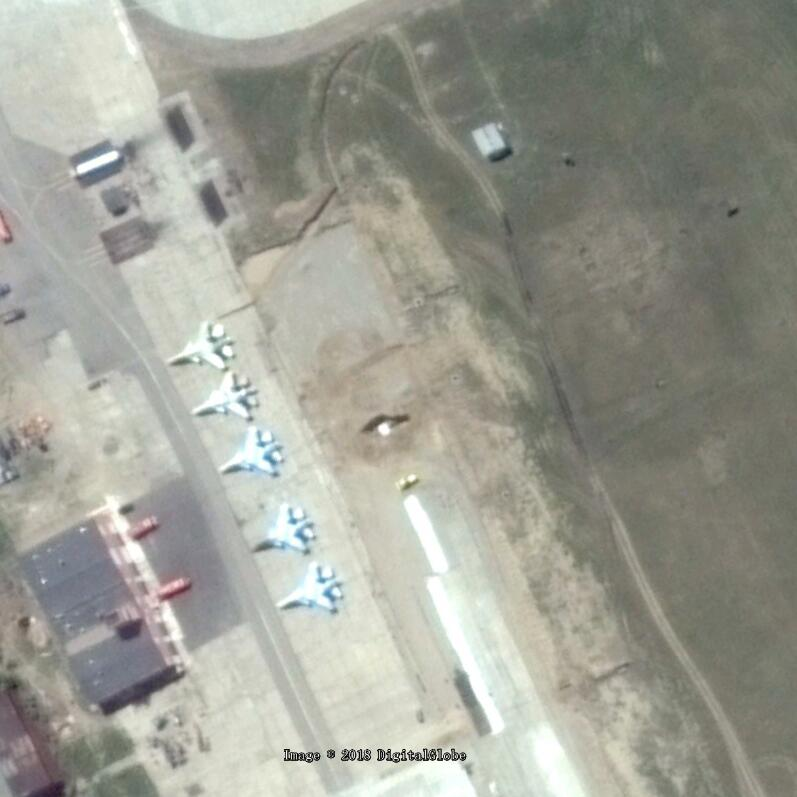A19: (246, 500, 317, 556), (276, 560, 343, 615), (164, 322, 237, 371), (193, 370, 260, 421), (219, 426, 284, 477)
